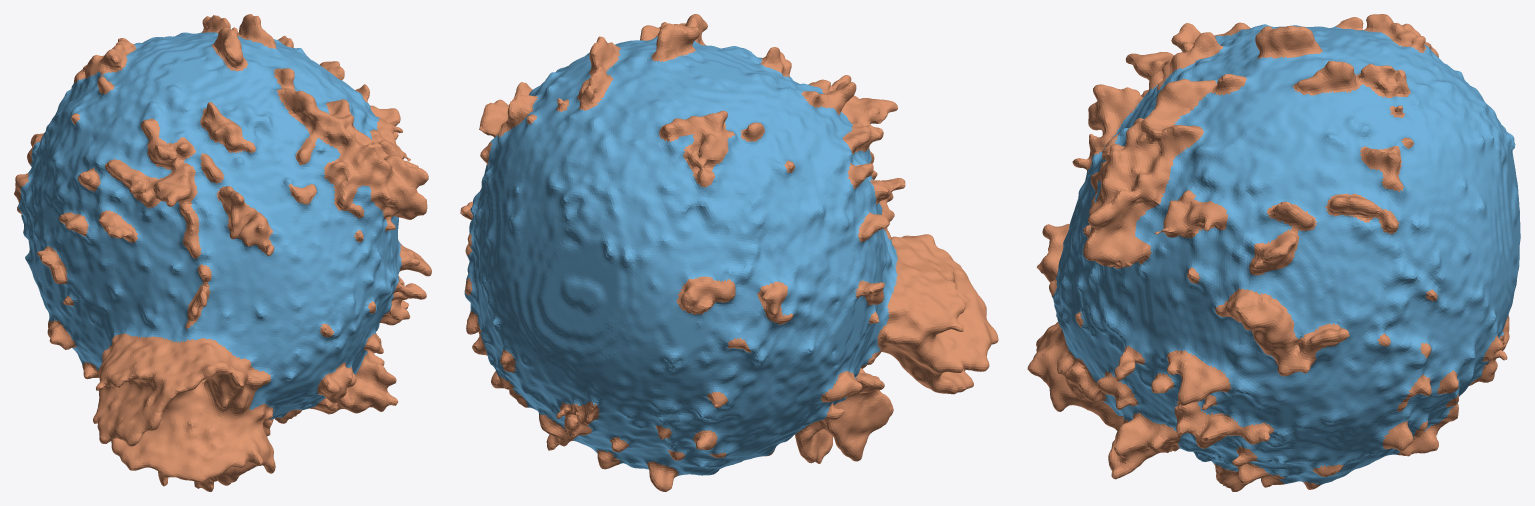
3 renders of one model, left to right at view 1: azimuth 30°, elevation 25°; view 2: azimuth 150°, elevation 25°; view 3: azimuth 270°, elevation 25°, orthographic. The views are drawn at different scales.
Bounding box in the file's own units: 147 × 151 × 142.
